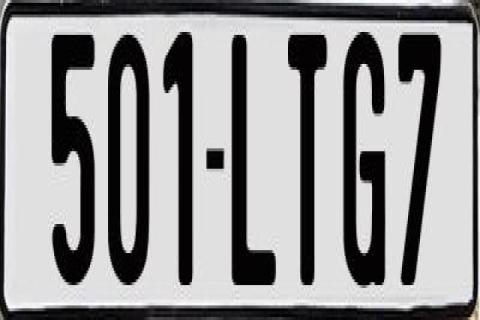0: (398, 26, 446, 294), (48, 29, 94, 294), (106, 29, 148, 288), (160, 32, 197, 296)
G: (340, 32, 382, 306)
L: (232, 35, 282, 299)
T: (286, 35, 328, 299)
